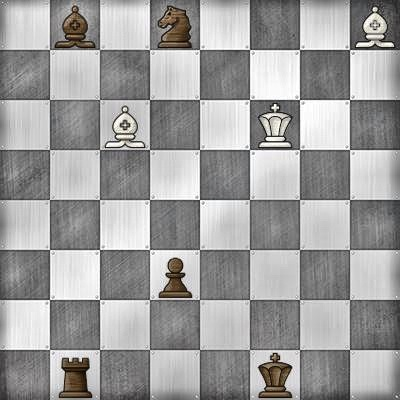black-bishop: (50, 0, 100, 50)
black-king: (250, 350, 300, 400)
black-knight: (150, 0, 200, 50)
black-pawn: (150, 250, 200, 300)
black-rook: (50, 350, 100, 400)
white-bishop: (350, 0, 400, 50), (100, 100, 150, 150)
white-king: (250, 100, 300, 150)
